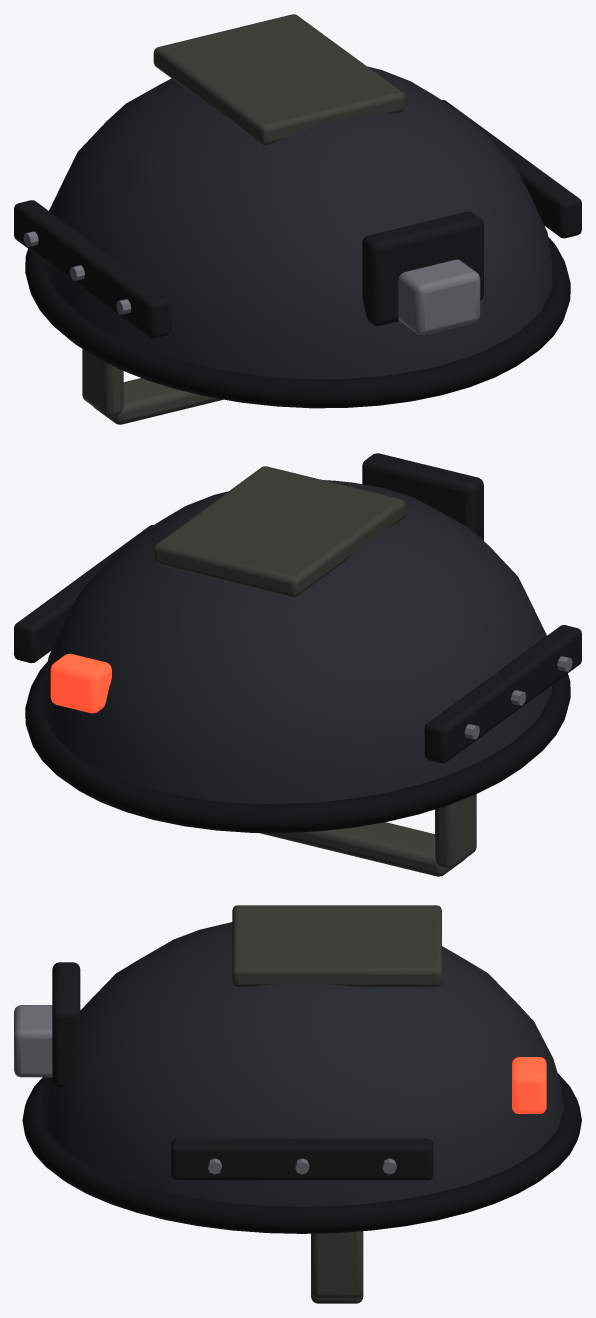
The model's file is casco_3.glb.
The picture shows the model from 3 angles, top to bottom: view 1: azimuth 30°, elevation 25°; view 2: azimuth 150°, elevation 25°; view 3: azimuth 270°, elevation 25°; orthographic projection. The views are drawn at different scales.
Parts seen in each view (by area): view 1: Sphere; view 2: Sphere; view 3: Sphere.
Part boxes in pixels (x1,y1,x2,y2): Sphere: (14,14,581,424); Sphere: (14,453,581,876); Sphere: (14,905,581,1303).
Size of the model in its own units: 0.286 by 0.182 by 0.3252.
